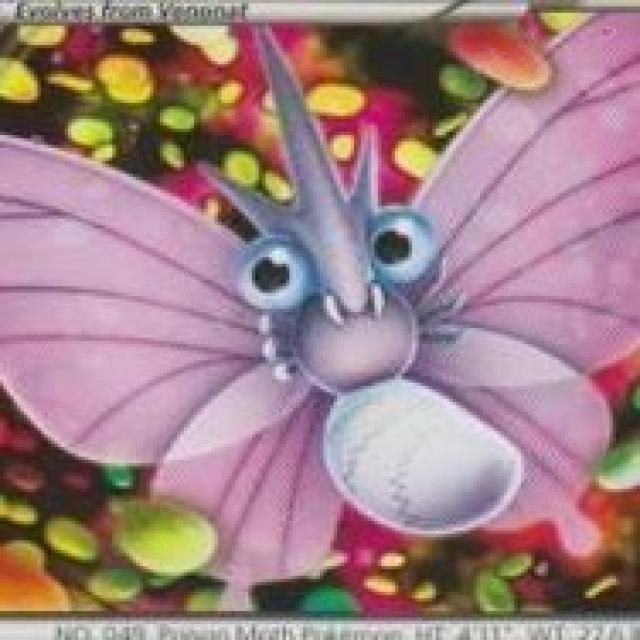Venomoth: (109, 87, 558, 549)
